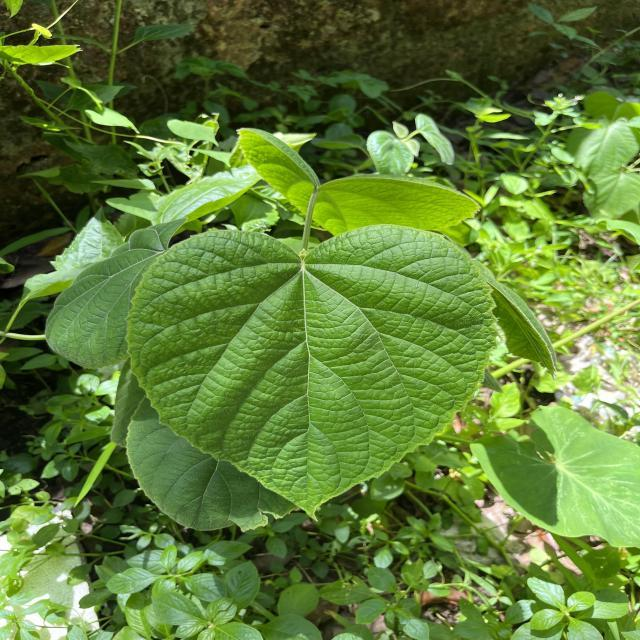Clerodendrum infortunatum: (123, 222, 500, 524)
